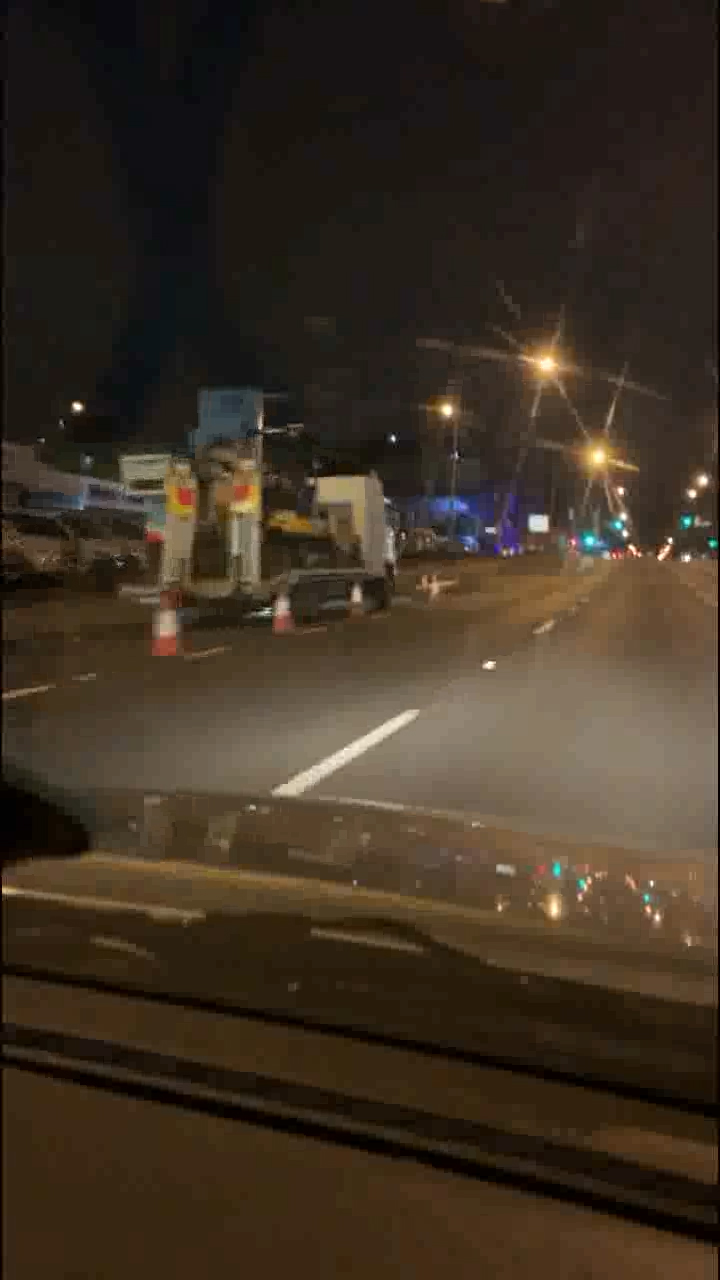road cone: (155, 599, 177, 664)
truck: (144, 419, 415, 585)
